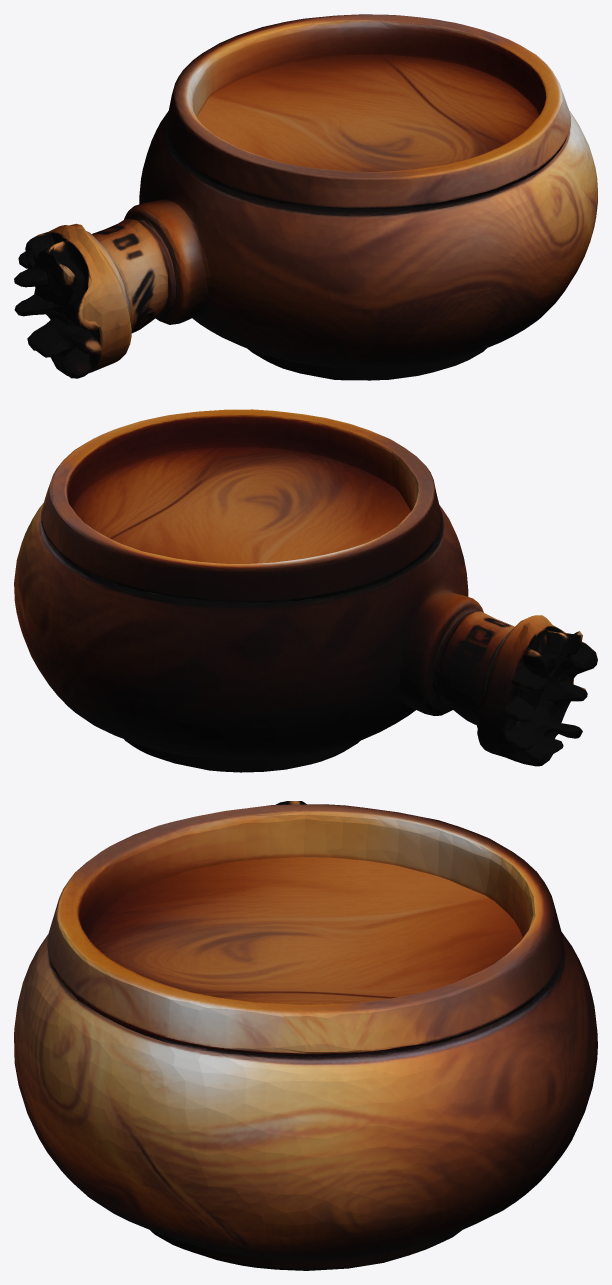
Rendered from wooden-cup-vintage.jpeg.glb.
3 renders of one model, top to bottom at view 1: azimuth 30°, elevation 25°; view 2: azimuth 150°, elevation 25°; view 3: azimuth 270°, elevation 25°, orthographic. The views are drawn at different scales.
Parts seen in each view (by area): view 1: world; view 2: world; view 3: world.
Boxes of the visible parts, x1=… form: world: x1=14, y1=14, x2=597, y2=380; world: x1=14, y1=409, x2=597, y2=772; world: x1=14, y1=801, x2=597, y2=1270.
Size of the model in its own units: 1 by 0.419 by 0.7525.
1 material, 1 textured.
